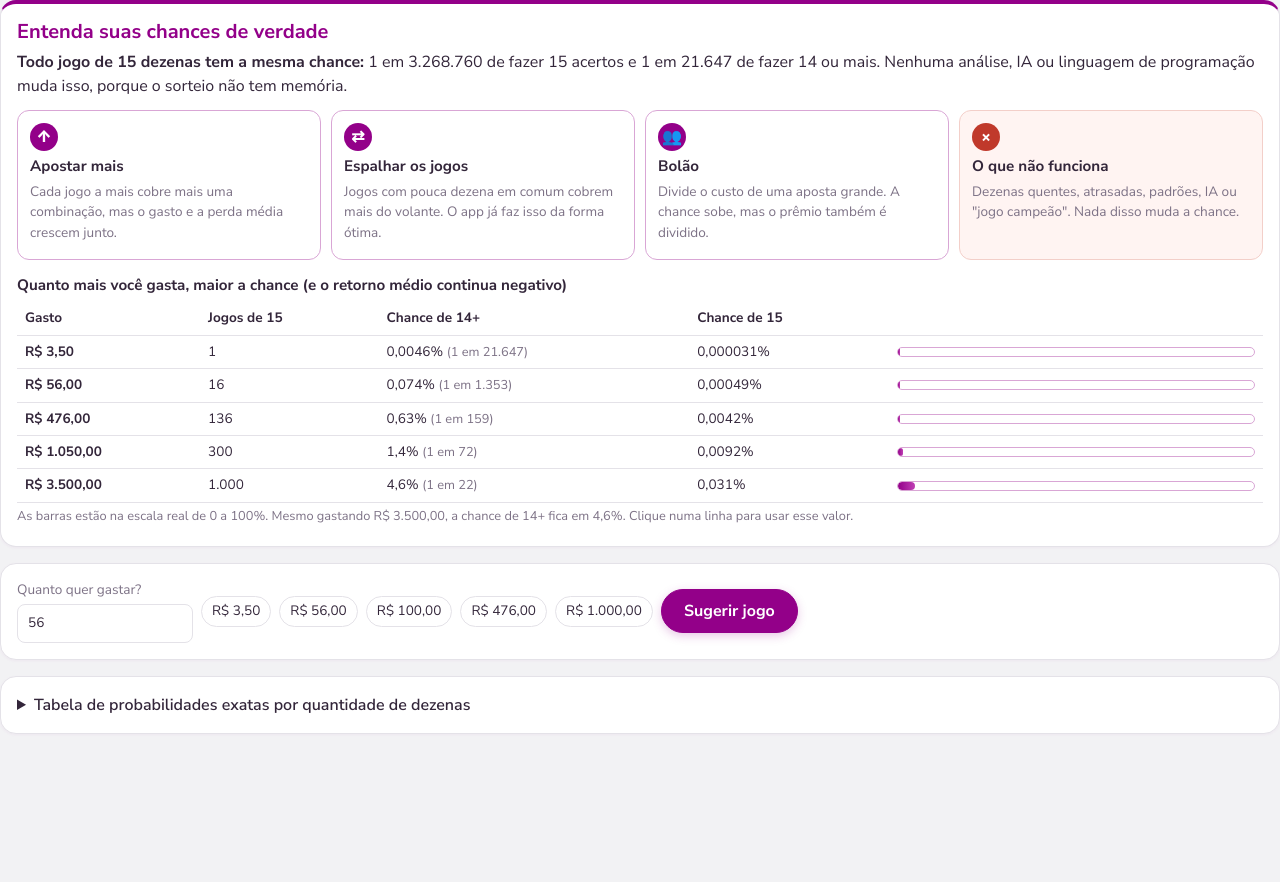
Test: PlannerPage › requests a plan for the chosen budget and shows the recommendation
The image size is (1280, 882).
Replace the text in the number field named "Orçamento em reais" with "3.5": (105, 624) x1=17 y1=604 x2=193 y2=643
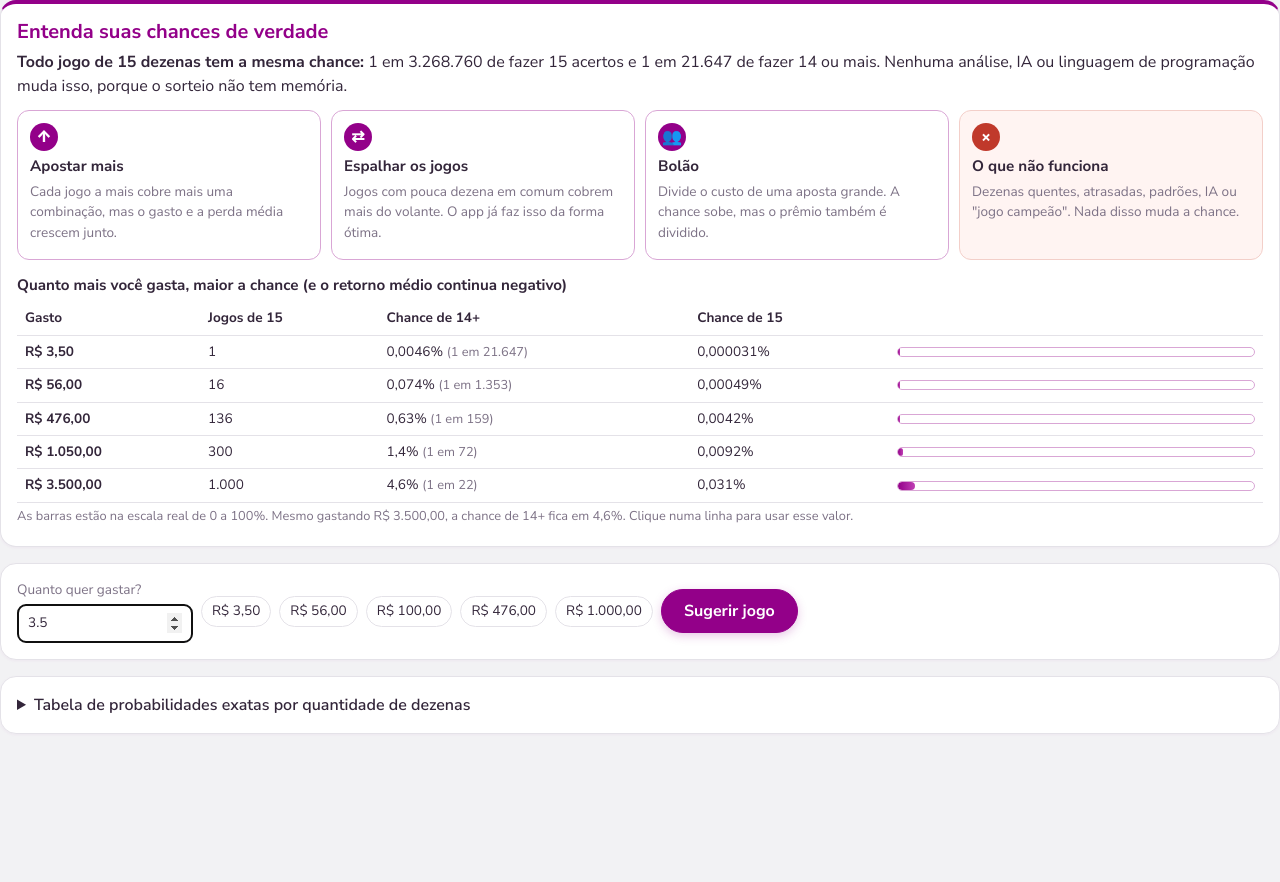
Click the button "Sugerir jogo": (729, 611) x1=661 y1=589 x2=798 y2=633
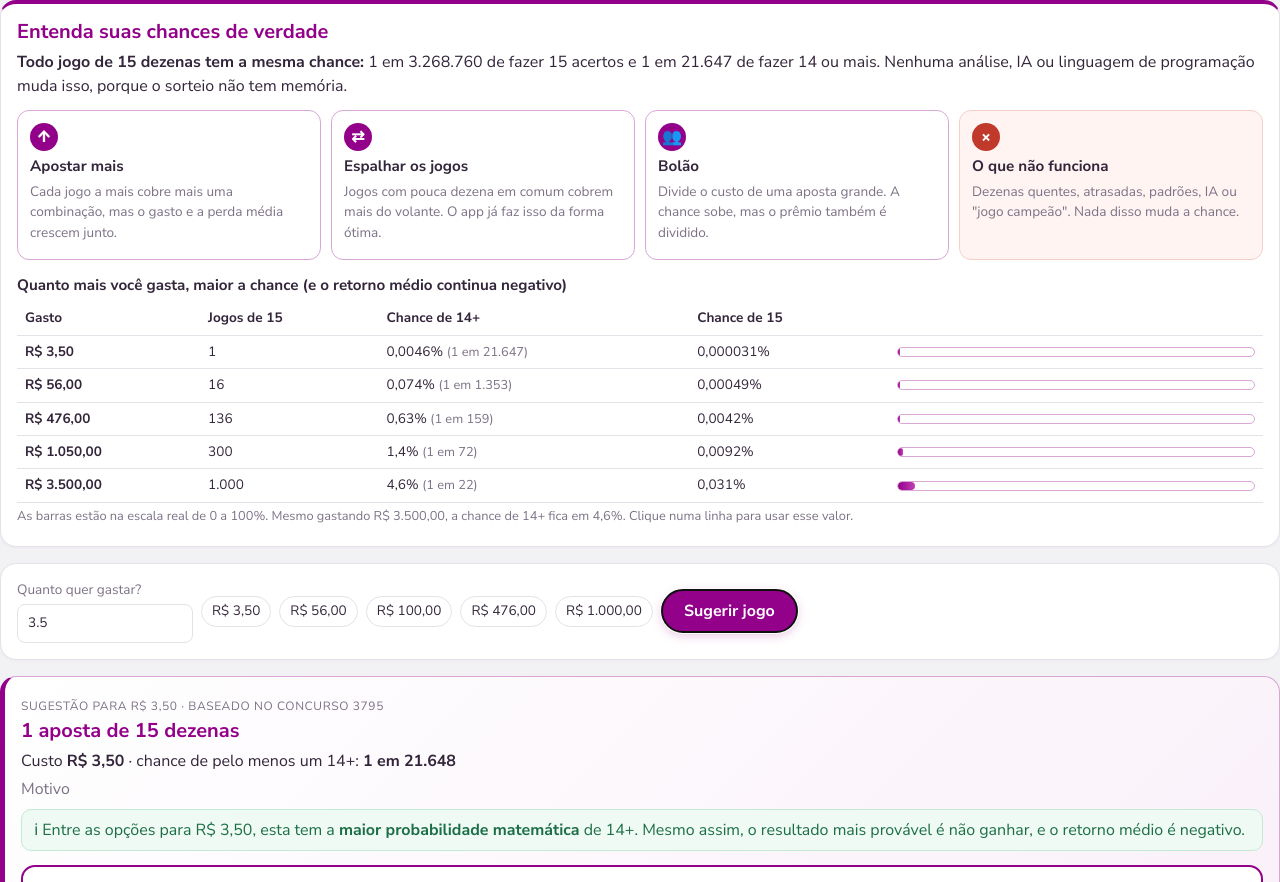
Check: the heading "1 aposta de 15 dezenas" is shown, box x1=21 y1=717 x2=239 y2=744
Check: the text "1 em 21.648" is shown, box x1=363 y1=750 x2=456 y2=772
